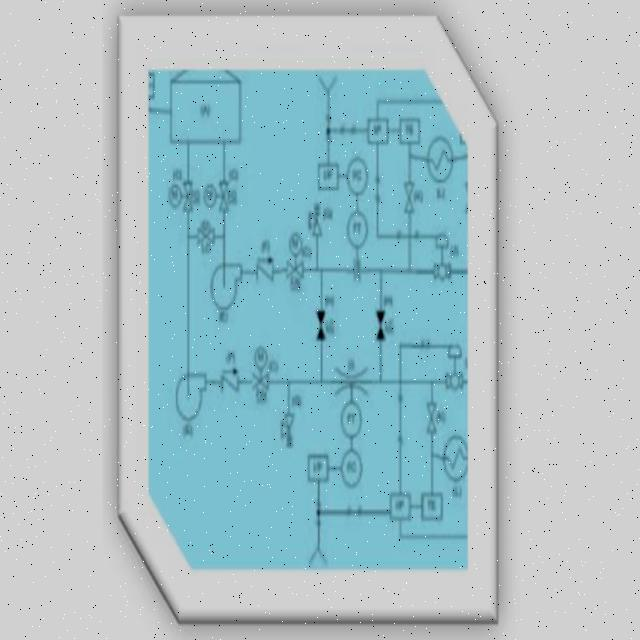Ball Valve: (444, 364, 466, 396), (432, 256, 452, 282)
Bleeder Valve: (372, 308, 384, 342), (315, 307, 326, 344)
Check Valve: (219, 366, 241, 398), (255, 256, 274, 286)
Gate Valve: (422, 397, 437, 439), (400, 177, 414, 215)
Motor Operated Gate Valve: (284, 227, 306, 286), (248, 339, 270, 392)
PSV: (276, 409, 296, 457), (306, 194, 324, 238)
